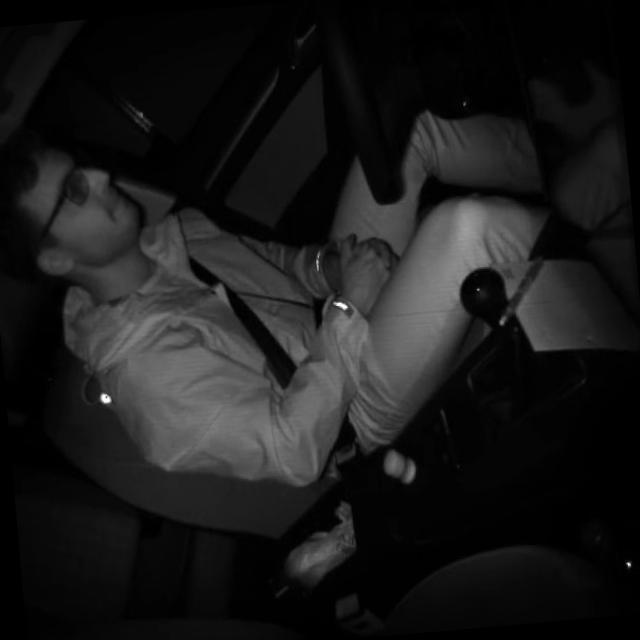pen: (491, 249, 552, 328)
